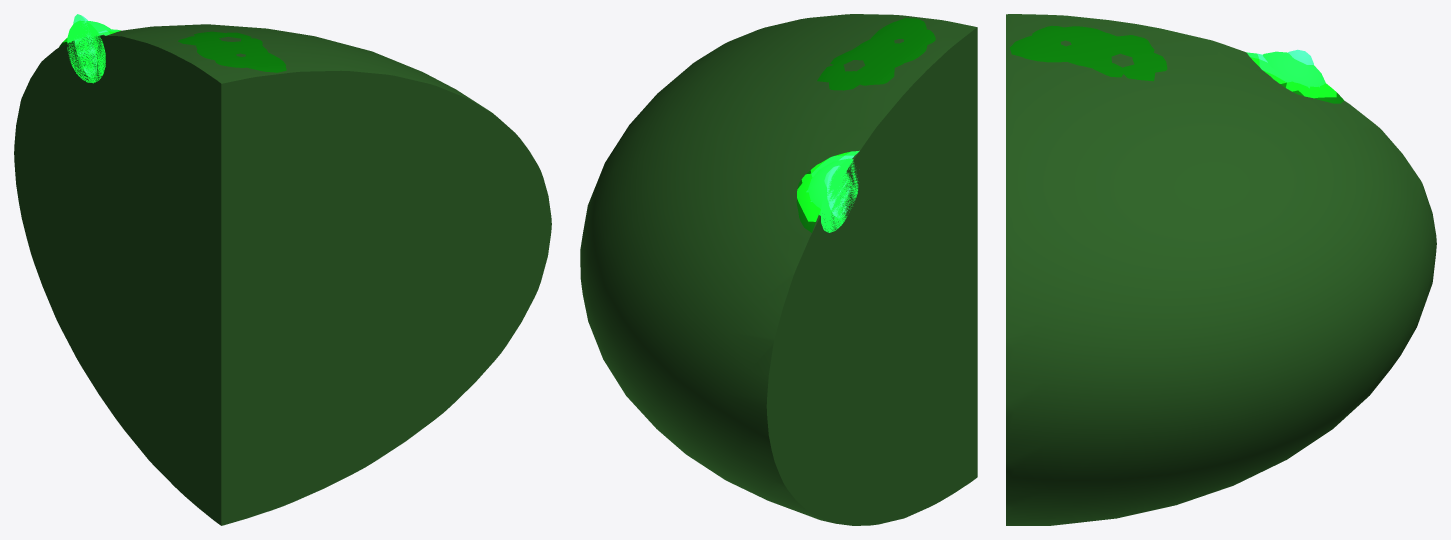
The model's file is glass_globe_tr.glb.
3 views of the same model, side by side, from view 1: azimuth 30°, elevation 25°; view 2: azimuth 150°, elevation 25°; view 3: azimuth 270°, elevation 25° (orthographic). The views are drawn at different scales.
Visible parts, largest first — view 1: glass_globe_tr_globe_glass, glass_globe_tr_globe_core, glass_globe_tr_globe_lobe_b; view 2: glass_globe_tr_globe_glass, glass_globe_tr_globe_core, glass_globe_tr_globe_lobe_b, glass_globe_tr_globe_lobe_b_core; view 3: glass_globe_tr_globe_glass, glass_globe_tr_globe_core, glass_globe_tr_globe_lobe_b.
Boxes of the visible parts, <box> form: glass_globe_tr_globe_glass: <box>14,24,551,525</box>; glass_globe_tr_globe_core: <box>59,29,286,72</box>; glass_globe_tr_globe_lobe_b: <box>67,20,110,83</box>; glass_globe_tr_globe_glass: <box>580,14,977,525</box>; glass_globe_tr_globe_core: <box>796,18,935,232</box>; glass_globe_tr_globe_lobe_b: <box>808,158,858,232</box>; glass_globe_tr_globe_lobe_b_core: <box>824,165,850,218</box>; glass_globe_tr_globe_glass: <box>1006,14,1436,525</box>; glass_globe_tr_globe_core: <box>1009,25,1344,103</box>; glass_globe_tr_globe_lobe_b: <box>1263,51,1325,86</box>.
Size of the model in its own units: 21.89 by 27.96 by 23.75.
